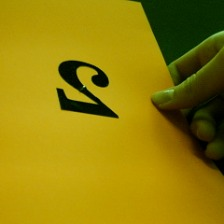orange2: (53, 55, 125, 124)
